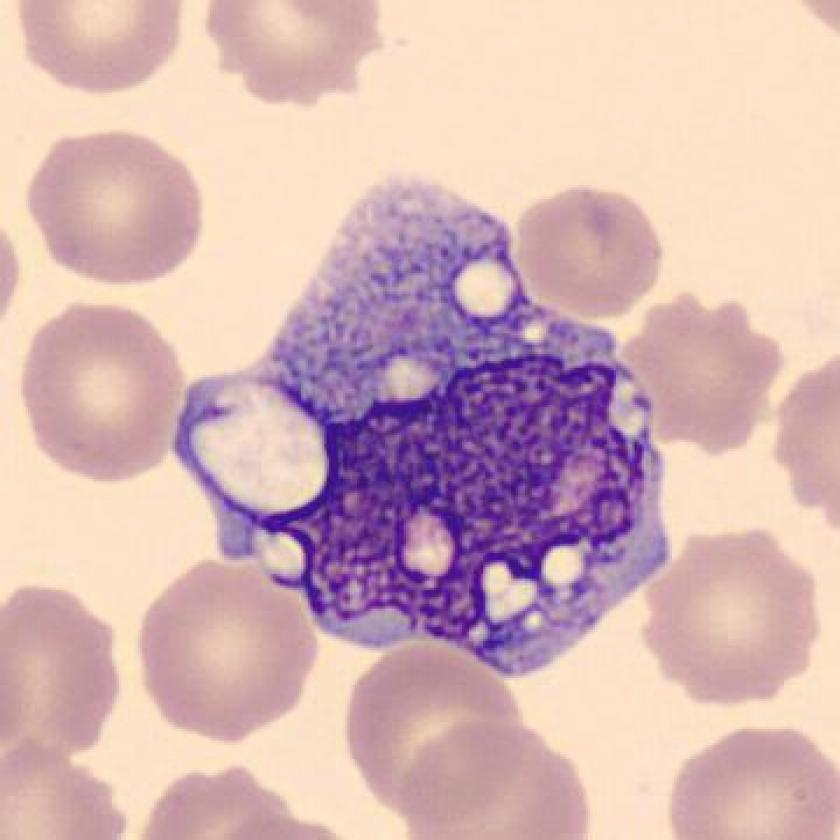monocyte: (153, 156, 692, 691)
